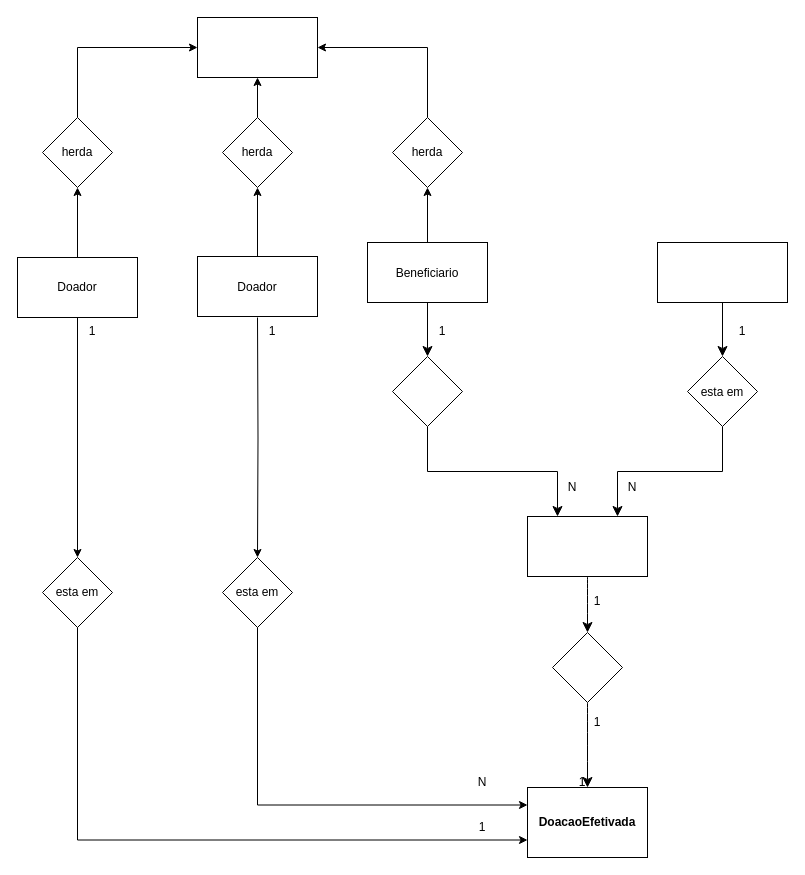
This 805x875 diagram has some shape labels left out. The box of each missing label's shape, as (x1, y1, x2, y2) in pixels:
gera: (552, 632, 622, 702)
ItemDoacao: (656, 242, 788, 302)
realiza: (392, 356, 462, 426)
Solicitacao: (526, 516, 648, 576)
Usuario: (196, 16, 318, 78)
